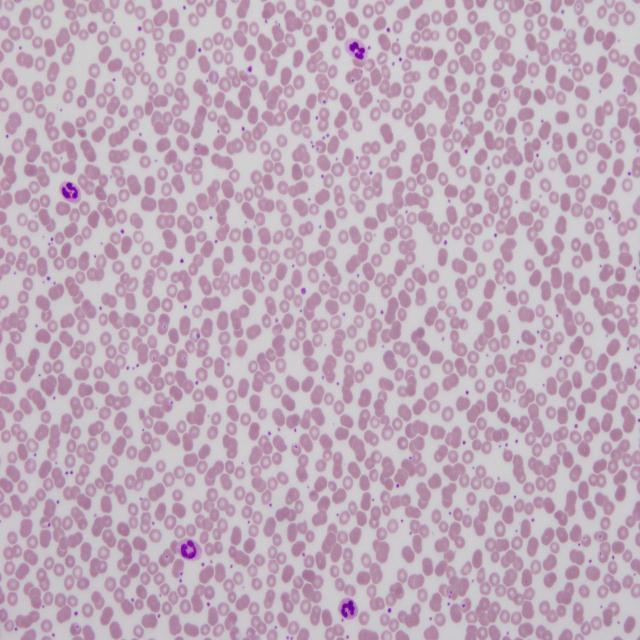cell: (345, 38, 366, 62), (339, 598, 358, 618), (180, 539, 198, 559), (61, 182, 79, 201)
